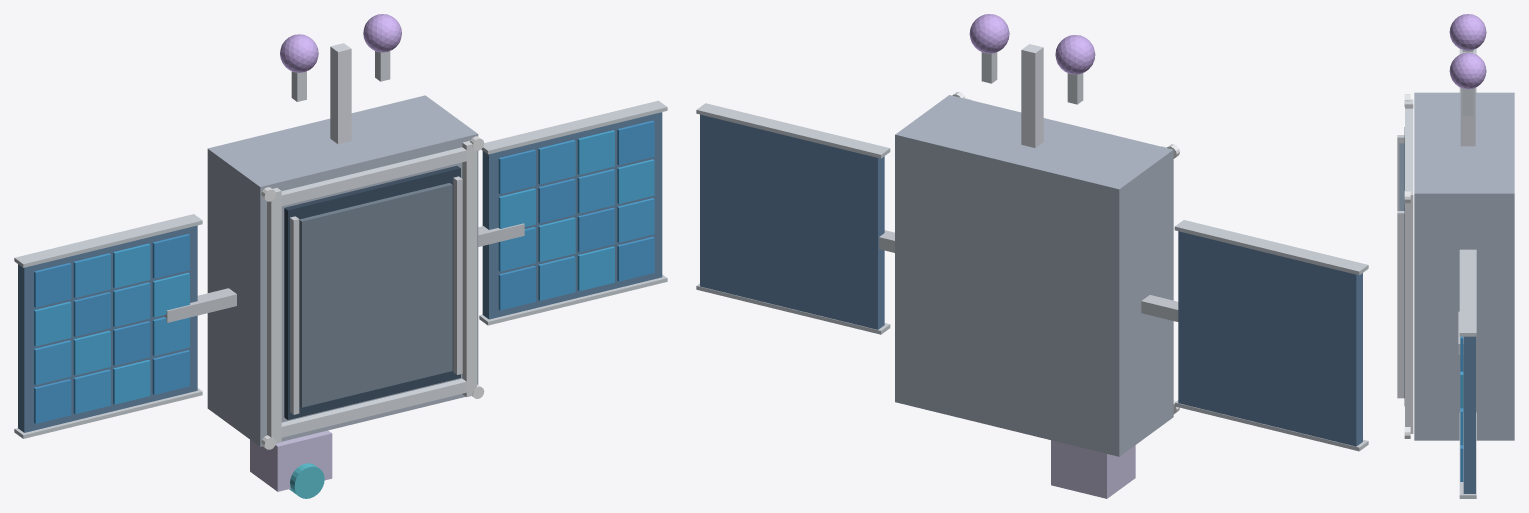
File: sat_003_bus.glb
3 renders of one model, left to right at view 1: azimuth 30°, elevation 25°; view 2: azimuth 150°, elevation 25°; view 3: azimuth 270°, elevation 25°, orthographic. The views are drawn at different scales.
Parts seen in each view (by area): view 1: Bus structural core, Service bay tray, Solar wing surround 1, Solar wing surround -1, Service bay depression, Structural side rail -0.61, Structural side rail 0.61, Radiometer module, Structural upper-lower rail -0.69, Structural upper-lower rail 0.69, Wing frame -1 y0.51, Wing frame 1 y0.51 (+42 smaller); view 2: Bus structural core, Solar wing surround -1, Solar wing surround 1, Radiometer module, Wing frame -1 y0.51, Wing frame 1 y0.51, Instrument mast, Science sensor -0.26, Science sensor 0.26, Wing frame -1 y-0.51, Wing frame 1 y-0.51, Wing boom -1; view 3: Bus structural core, Structural side rail 0.61, Solar wing surround 1, Wing frame 1 y0.51, Bay guide rail 0.51, Science sensor -0.26, Science sensor 0.26, Structural upper-lower rail 0.69, Instrument mast, Wing frame 1 y-0.51, Service bay tray, Science sensor stalk 0.26 (+4 smaller).
Part boxes in pixels (<box>): Bus structural core: <box>207,95,478,446</box>; Service bay tray: <box>299,183,452,407</box>; Solar wing surround 1: <box>482,112,662,319</box>; Solar wing surround -1: <box>18,225,197,432</box>; Service bay depression: <box>284,165,460,419</box>; Structural side rail -0.61: <box>267,188,281,443</box>; Structural side rail 0.61: <box>462,140,476,396</box>; Radiometer module: <box>250,430,332,491</box>; Structural upper-lower rail -0.69: <box>281,378,473,437</box>; Structural upper-lower rail 0.69: <box>281,147,467,206</box>; Wing frame -1 y0.51: <box>14,214,202,267</box>; Wing frame 1 y0.51: <box>481,100,667,154</box>; Bus structural core: <box>895,95,1173,456</box>; Solar wing surround -1: <box>1178,231,1362,446</box>; Solar wing surround 1: <box>700,114,884,329</box>; Radiometer module: <box>1051,440,1135,498</box>; Wing frame -1 y0.51: <box>1174,220,1368,275</box>; Wing frame 1 y0.51: <box>696,103,890,158</box>; Instrument mast: <box>1021,44,1043,147</box>; Science sensor -0.26: <box>1055,35,1095,74</box>; Science sensor 0.26: <box>969,14,1009,53</box>; Wing frame -1 y-0.51: <box>1174,400,1368,451</box>; Wing frame 1 y-0.51: <box>696,283,890,334</box>; Wing boom -1: <box>1141,295,1178,321</box>; Bus structural core: <box>1414,92,1514,440</box>; Structural side rail 0.61: <box>1405,190,1413,433</box>; Solar wing surround 1: <box>1463,336,1475,493</box>; Wing frame 1 y0.51: <box>1459,249,1476,336</box>; Bay guide rail 0.51: <box>1397,211,1404,398</box>; Science sensor -0.26: <box>1449,14,1486,50</box>; Science sensor 0.26: <box>1449,52,1486,89</box>; Structural upper-lower rail 0.69: <box>1405,108,1413,189</box>; Instrument mast: <box>1460,52,1475,146</box>; Wing frame 1 y-0.51: <box>1459,412,1476,498</box>; Service bay tray: <box>1399,143,1404,210</box>; Science sensor stalk 0.26: <box>1462,88,1473,116</box>.
Bounding box in the file's own units: 4.02 × 2.64 × 0.6675.
